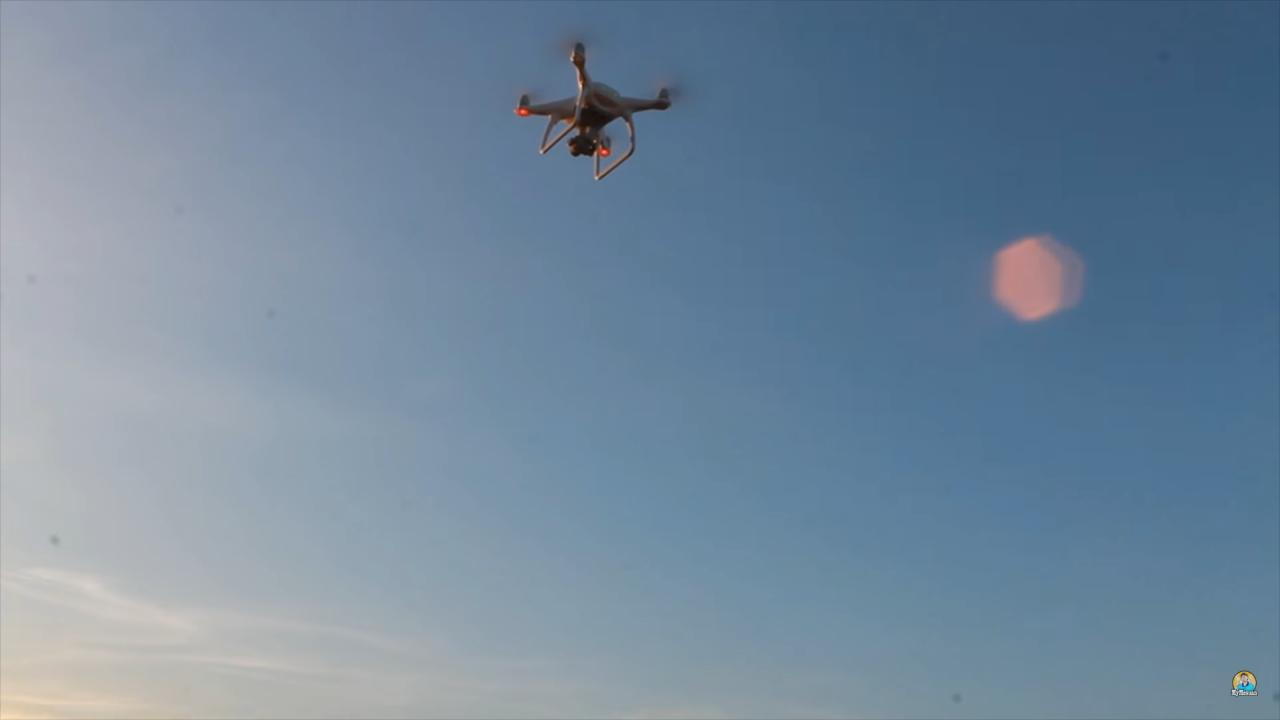Drone: (498, 21, 684, 203)
